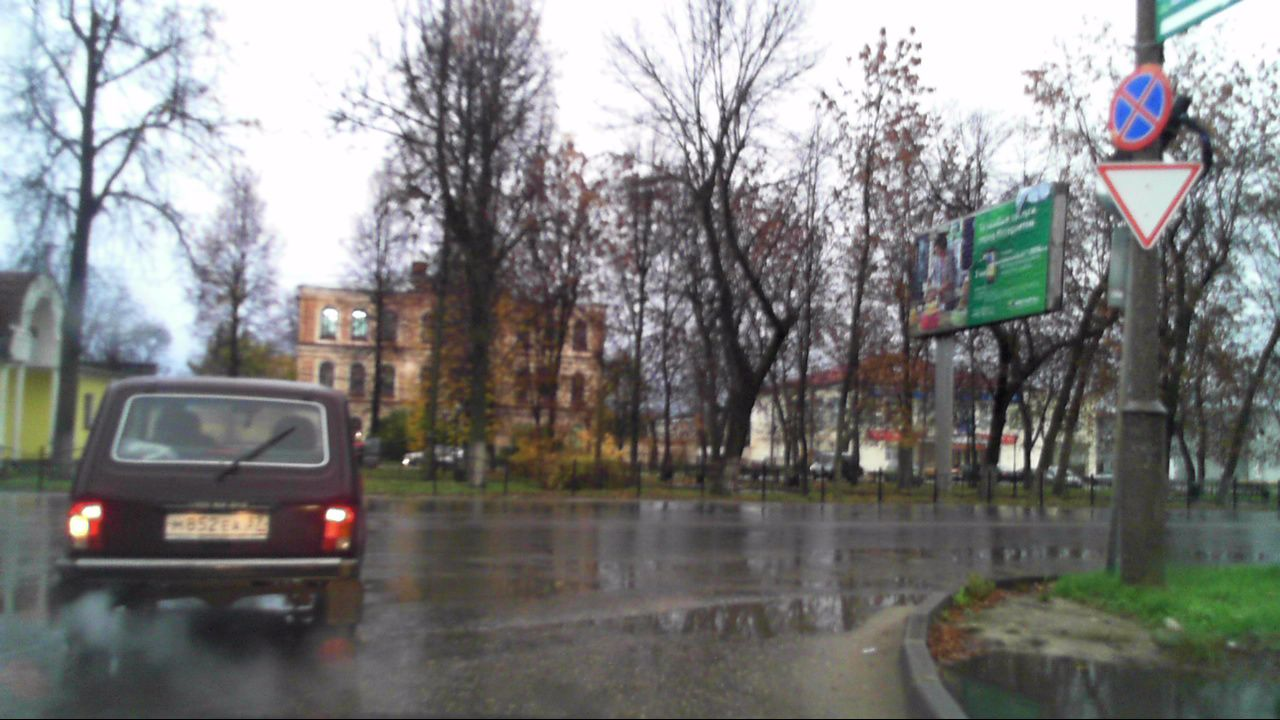No Parking: (1109, 63, 1171, 150)
